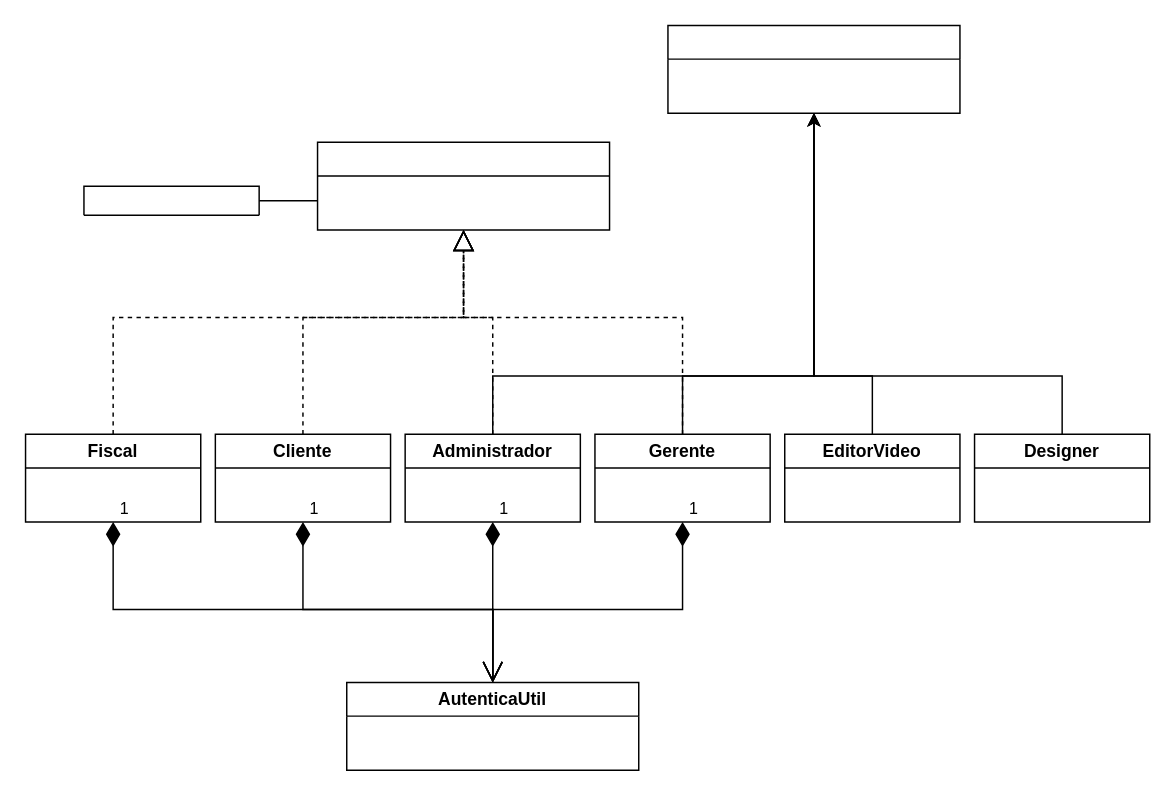
The diagram is 1175 pixels wide and 796 high, and some of its shapes have lost their labels. The shapes that lost their labels are listed below. From the top down, each one's centre as x and y in pixels, then its label:
At (x=813, y=68): "Funcionario".
At (x=170, y=200): "SistemaInterno".
At (x=463, y=185): "Autenticavel".
